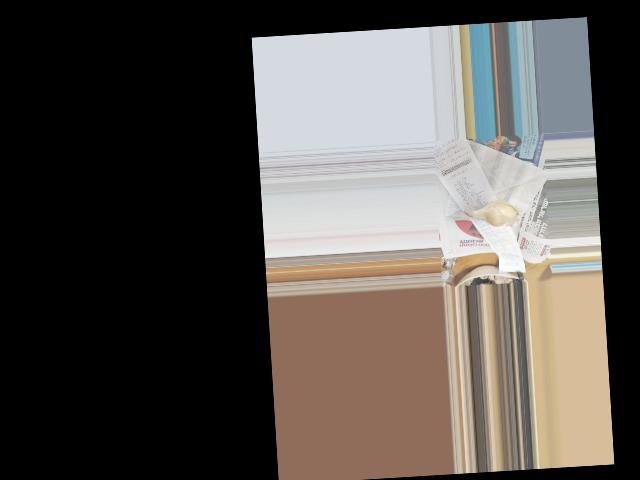onion: (473, 198, 517, 229)
